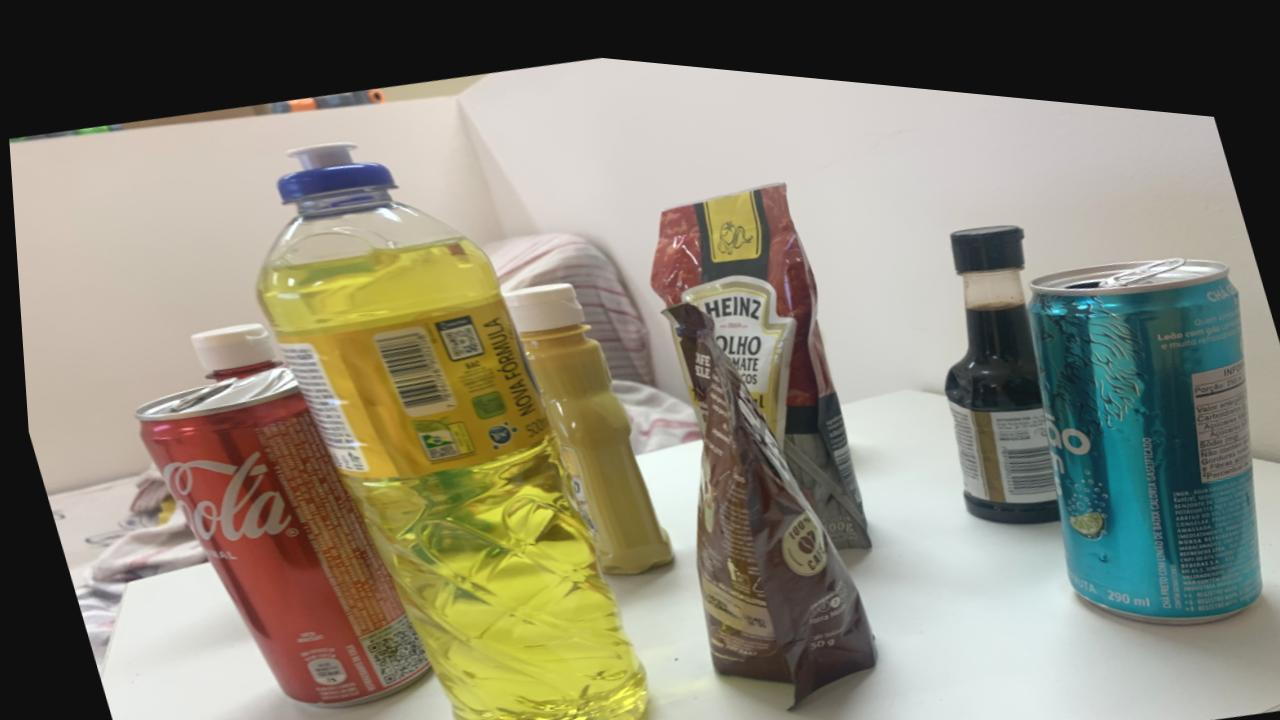Coffee-Pantry_Items: (661, 288, 869, 689)
Coke-Drinks: (132, 376, 420, 700)
Detergent-Cleanup_Items: (252, 136, 639, 720)
English_Sauce-Pantry_Items: (940, 204, 1054, 503)
Mustard-Pantry_Items: (499, 271, 666, 562)
Tea-Drinks: (1025, 234, 1256, 601)
Tomato_Sauce-Pantry_Items: (647, 167, 865, 532)
